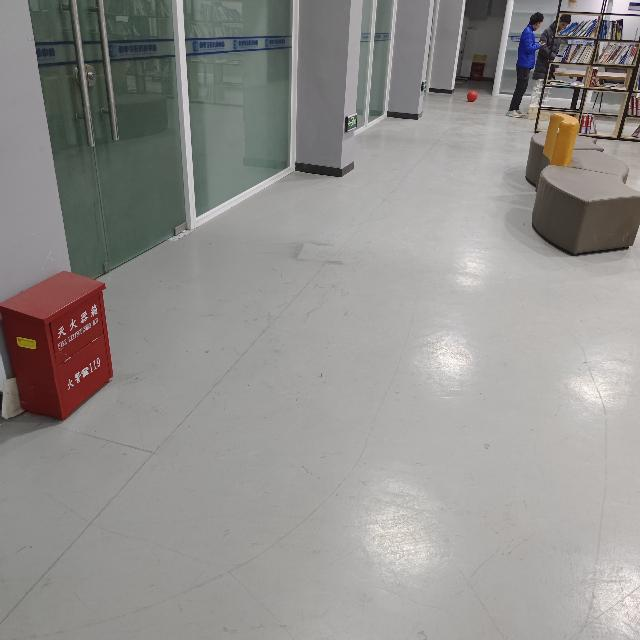R: (466, 90, 480, 102)
